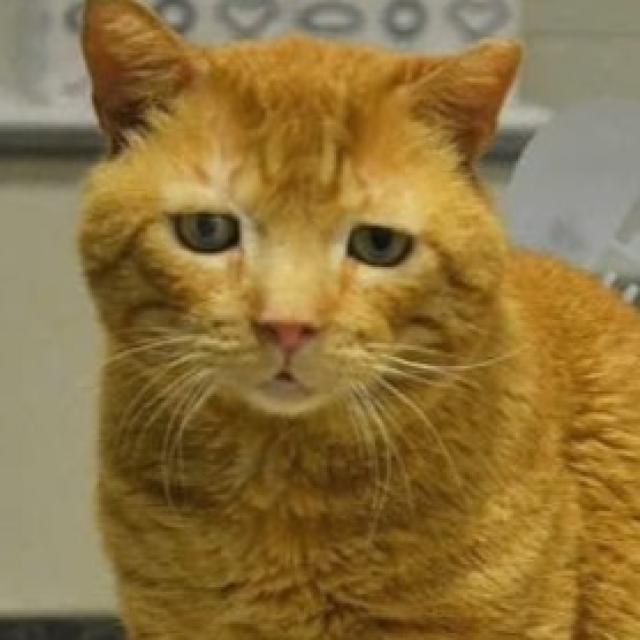Sad: (106, 145, 471, 430)
